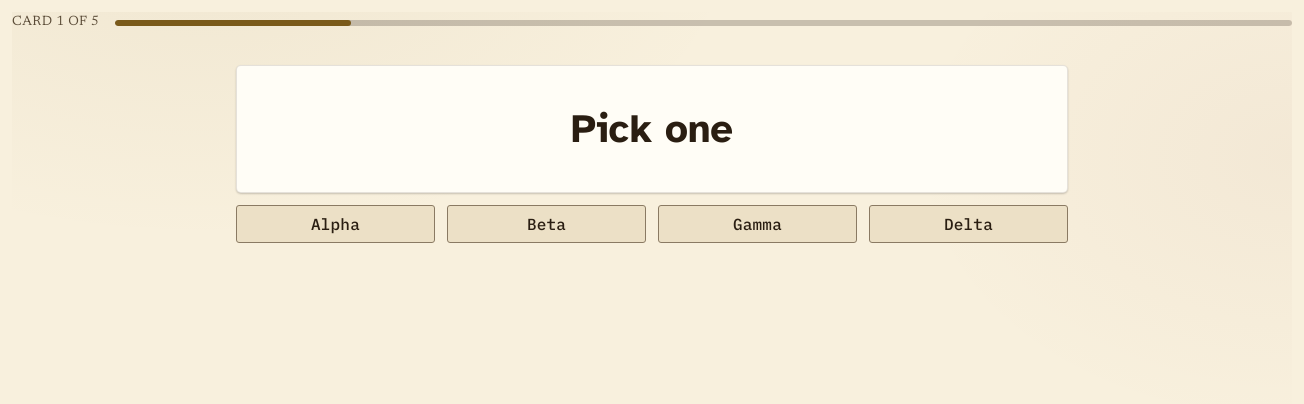
Test: ReviewSession multiple-choice layout (options outside the card) › clicking an option submits it at once: no Continue button, the pick shown pressed
Click the radio button labelled "Gamma".
click(758, 224)  # box [658,205,857,243]
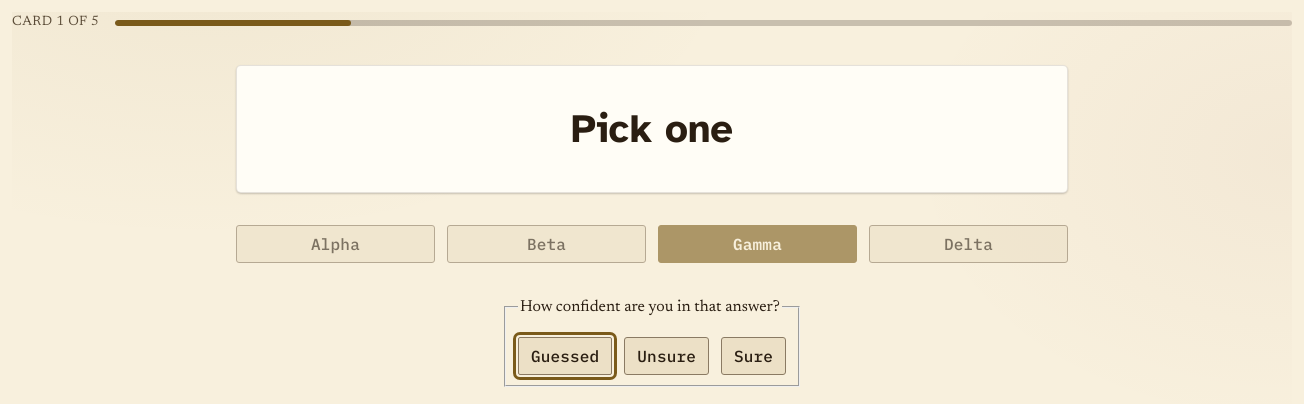
Result: the text "How confident are you in that answer?" is shown at [518,295,782,320]
